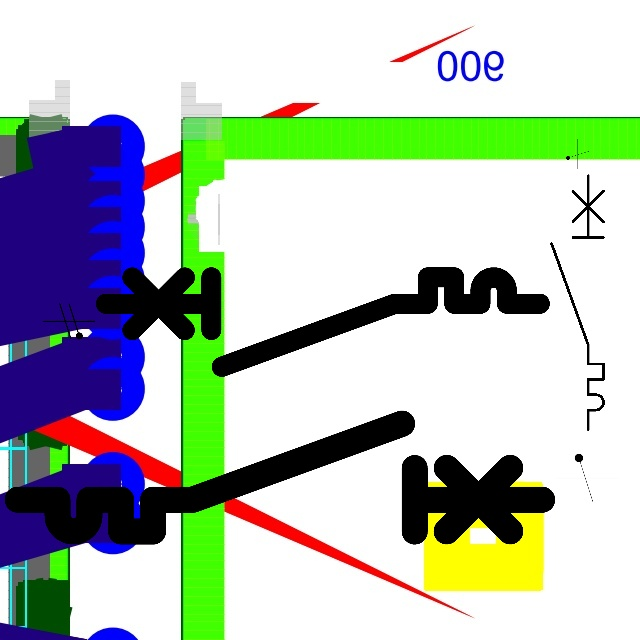interruptor_termomagnetico: (4, 410, 556, 545), (94, 266, 551, 378), (545, 169, 610, 436)
